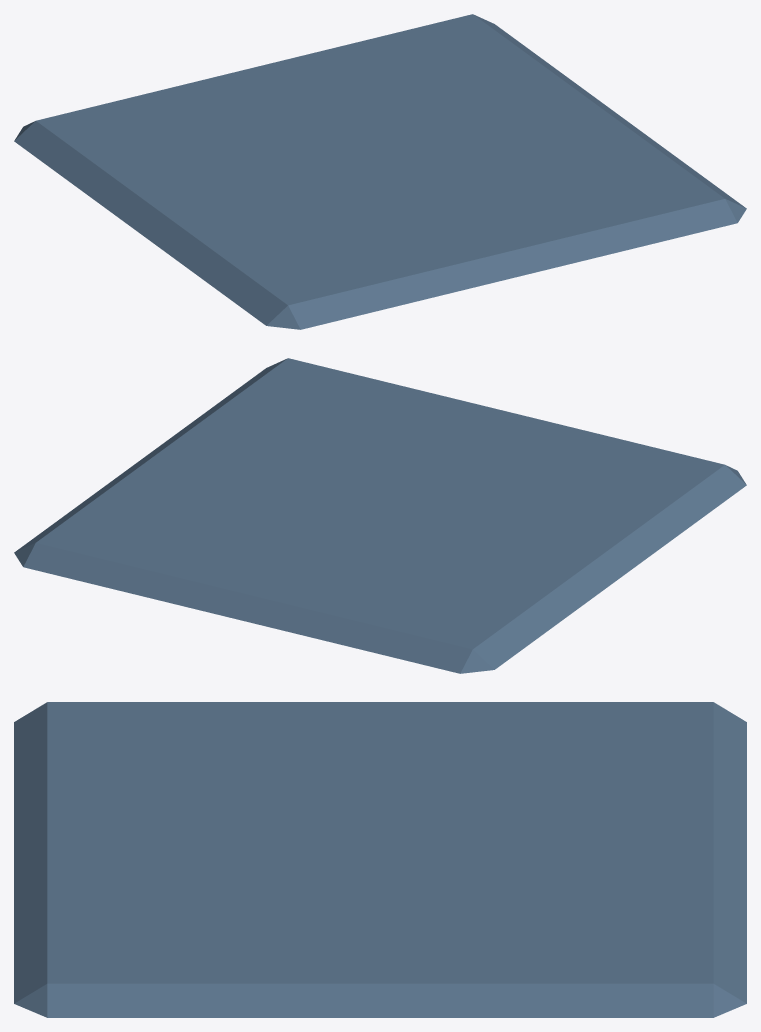
The model's file is Flat.FBX.
3 views of the same model, one above another, from view 1: azimuth 30°, elevation 25°; view 2: azimuth 150°, elevation 25°; view 3: azimuth 270°, elevation 25° (orthographic). The views are drawn at different scales.
Visible parts, largest first — view 1: Flat; view 2: Flat; view 3: Flat.
Part boxes in pixels (x1=…): Flat: x1=14, y1=14, x2=746, y2=329; Flat: x1=14, y1=358, x2=746, y2=673; Flat: x1=14, y1=702, x2=746, y2=1017.
Bounding box in the file's own units: 130 × 3.94 × 130.
